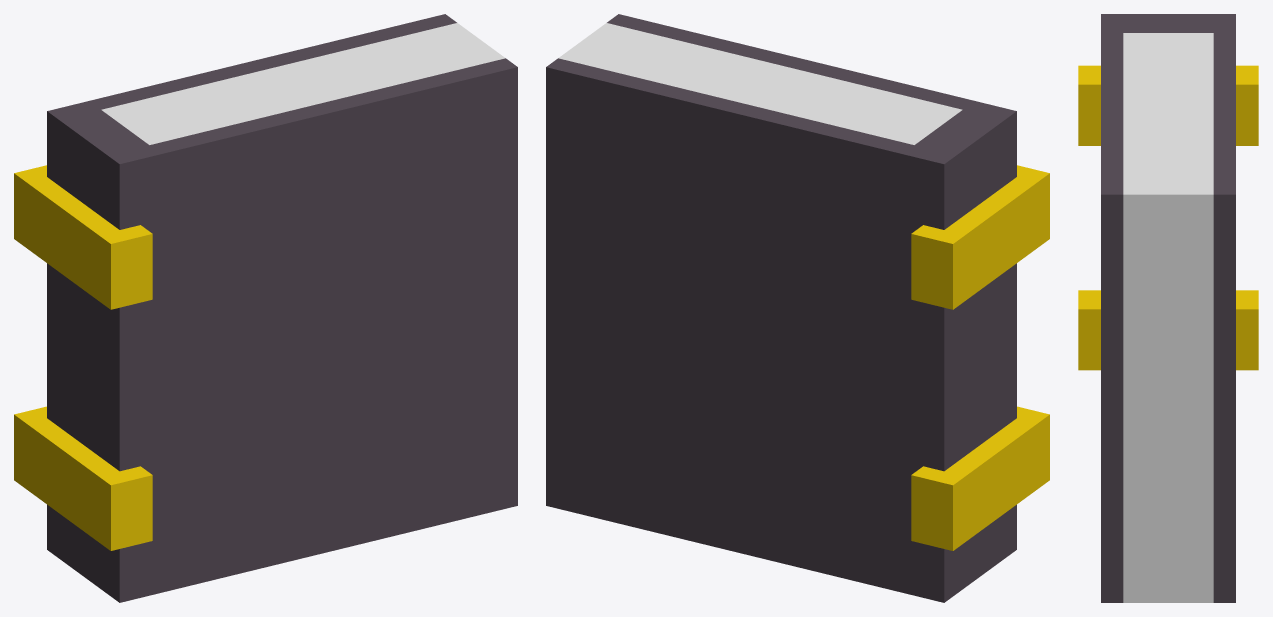
Rendered from SchoolPack-60-book.obj.
3 renders of one model, left to right at view 1: azimuth 30°, elevation 25°; view 2: azimuth 150°, elevation 25°; view 3: azimuth 270°, elevation 25°, orthographic. The views are drawn at different scales.
Parts seen in each view (by area): view 1: book; view 2: book; view 3: book.
Part boxes in pixels (box(x1,y1,x2,y2)): book: box(14, 14, 517, 602); book: box(546, 14, 1049, 602); book: box(1078, 14, 1258, 602).
Size of the model in its own units: 2 by 2 by 0.8.
Materials: 1 (1 with a texture image).
